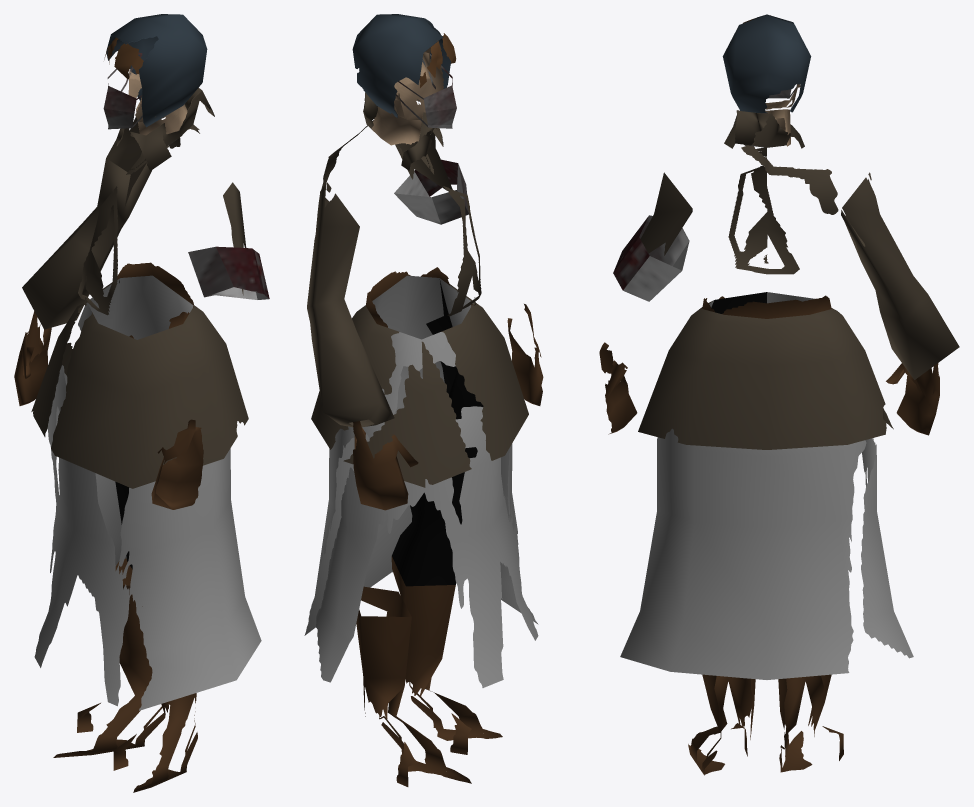
File: Women 3.obj
3 views of the same model, side by side, from view 1: azimuth 30°, elevation 25°; view 2: azimuth 150°, elevation 25°; view 3: azimuth 270°, elevation 25° (orthographic). The views are drawn at different scales.
Visible parts, largest first — view 1: CH-W-SIMP.002; view 2: CH-W-SIMP.002; view 3: CH-W-SIMP.002.
Boxes of the visible parts, x1=… form: CH-W-SIMP.002: x1=14, y1=14, x2=269, y2=792; CH-W-SIMP.002: x1=304, y1=14, x2=543, y2=786; CH-W-SIMP.002: x1=599, y1=14, x2=959, y2=775.
Bounding box in the file's own units: 0.9057 × 3.59 × 1.66.
Materials: 2 (2 with a texture image).
